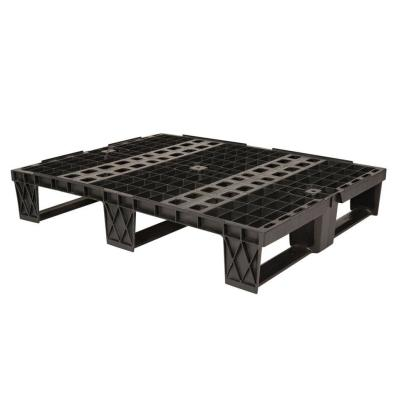BoxFace: (9, 168, 381, 294)
